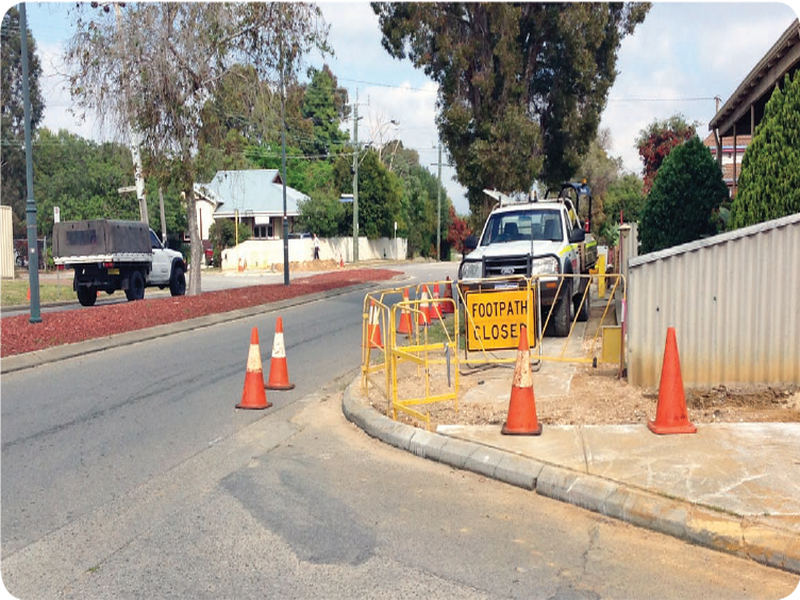Cone: (645, 327, 698, 435)
